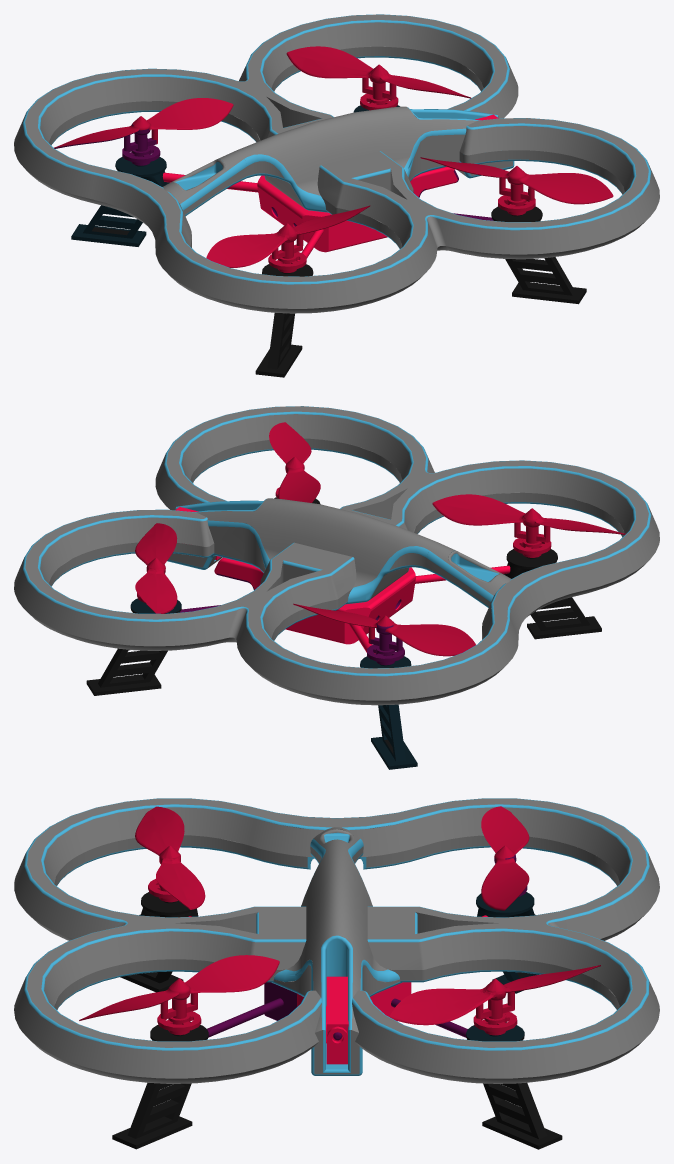
The model's file is rc_quadcopter.glb.
The picture shows the model from 3 angles, top to bottom: view 1: azimuth 30°, elevation 25°; view 2: azimuth 150°, elevation 25°; view 3: azimuth 270°, elevation 25°; orthographic projection. The views are drawn at different scales.
Parts seen in each view (by area): view 1: Casing, Base, Prop2, Prop3, Prop1, Prop4, Leg2, Leg3, Leg4; view 2: Casing, Base, Prop4, Prop3, Leg4, Leg1, Prop1, Prop2, Leg3; view 3: Casing, Prop1, Prop2, Base, Prop4, Leg1, Leg2, Prop3, Leg4, Leg3.
Boxes of the visible parts, x1,y1,x2,y2 form: Casing: [14, 14, 659, 313]; Base: [162, 114, 498, 261]; Prop2: [420, 157, 613, 215]; Prop3: [54, 98, 233, 165]; Prop1: [286, 46, 470, 110]; Prop4: [206, 205, 370, 272]; Leg2: [491, 206, 586, 304]; Leg3: [71, 156, 169, 246]; Leg4: [255, 261, 313, 377]; Casing: [14, 406, 659, 705]; Base: [175, 507, 510, 653]; Prop4: [432, 494, 625, 557]; Prop3: [293, 603, 475, 665]; Leg4: [503, 549, 601, 639]; Leg1: [86, 598, 181, 695]; Prop1: [135, 523, 177, 613]; Prop2: [269, 422, 320, 502]; Leg3: [360, 653, 417, 769]; Casing: [14, 798, 659, 1083]; Prop1: [390, 965, 600, 1035]; Prop2: [79, 955, 279, 1035]; Base: [188, 915, 487, 1064]; Prop4: [135, 806, 205, 909]; Leg1: [466, 1022, 562, 1149]; Leg2: [112, 1022, 208, 1149]; Prop3: [481, 806, 529, 910]; Leg4: [120, 892, 198, 992]; Leg3: [476, 892, 538, 993].
Bounding box in the file's own units: 0.5872 × 0.1795 × 0.6154.
